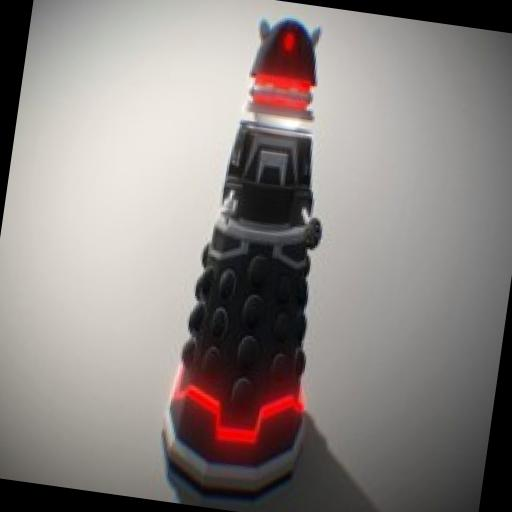dalek: (152, 4, 363, 512)
